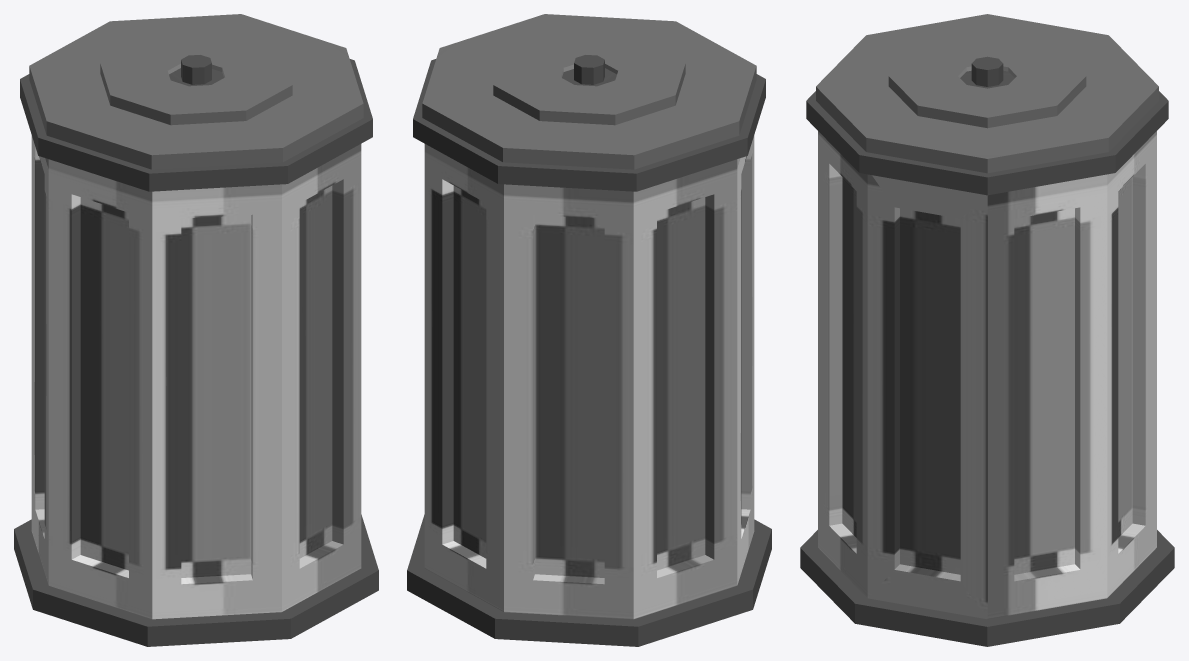
The model's file is trashcan_test.fbx.
3 views of the same model, side by side, from view 1: azimuth 30°, elevation 25°; view 2: azimuth 150°, elevation 25°; view 3: azimuth 270°, elevation 25° (orthographic).
Visible parts, largest first — view 1: Cylinder.012, Cylinder.013; view 2: Cylinder.012, Cylinder.013; view 3: Cylinder.012, Cylinder.013.
Boxes of the visible parts, left/top/right/bottom form: Cylinder.012: left=14, top=59, right=378, bottom=646; Cylinder.013: left=29, top=14, right=363, bottom=169; Cylinder.012: left=407, top=59, right=771, bottom=646; Cylinder.013: left=422, top=14, right=756, bottom=169; Cylinder.012: left=800, top=91, right=1174, bottom=646; Cylinder.013: left=816, top=14, right=1158, bottom=173.
Bounding box in the file's own units: 221 × 329 × 221.
Materials: 1 (1 with a texture image).
